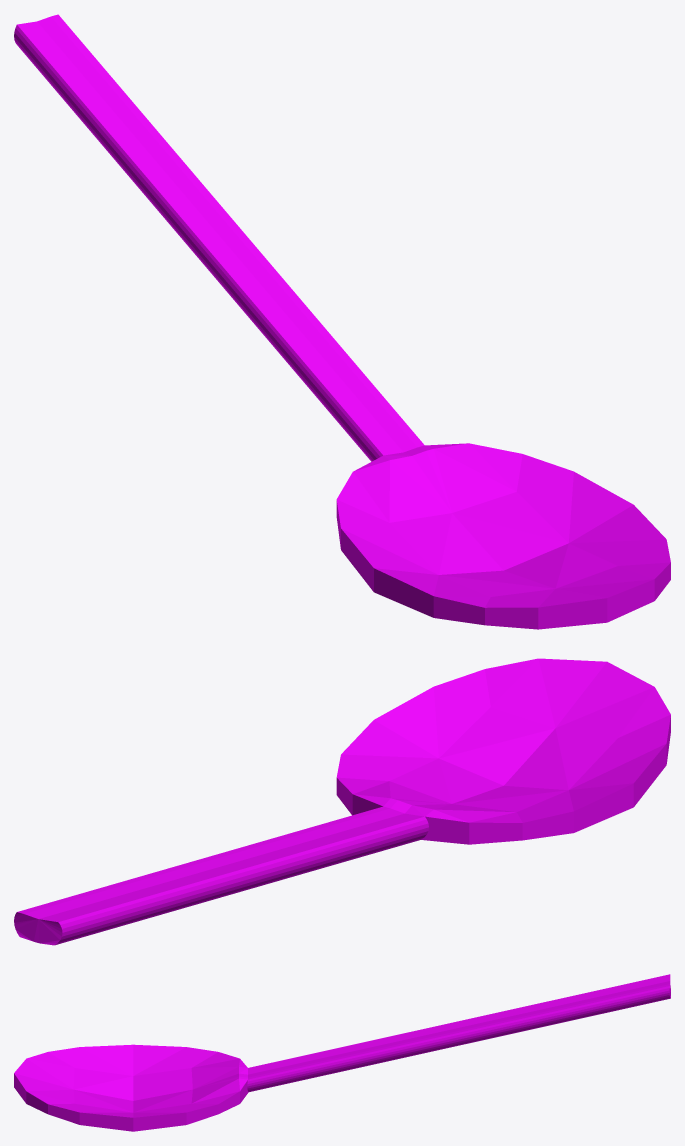
The model's file is spoon.dae.
3 renders of one model, top to bottom at view 1: azimuth 30°, elevation 25°; view 2: azimuth 150°, elevation 25°; view 3: azimuth 270°, elevation 25°, orthographic. The views are drawn at different scales.
Parts seen in each view (by area): view 1: Cylinder; view 2: Cylinder; view 3: Cylinder.
Boxes of the visible parts, <box> form: Cylinder: <box>14,14,670,629</box>; Cylinder: <box>14,658,670,945</box>; Cylinder: <box>14,974,670,1131</box>.
Size of the model in its own units: 0.0532 by 0.2022 by 0.0456.
